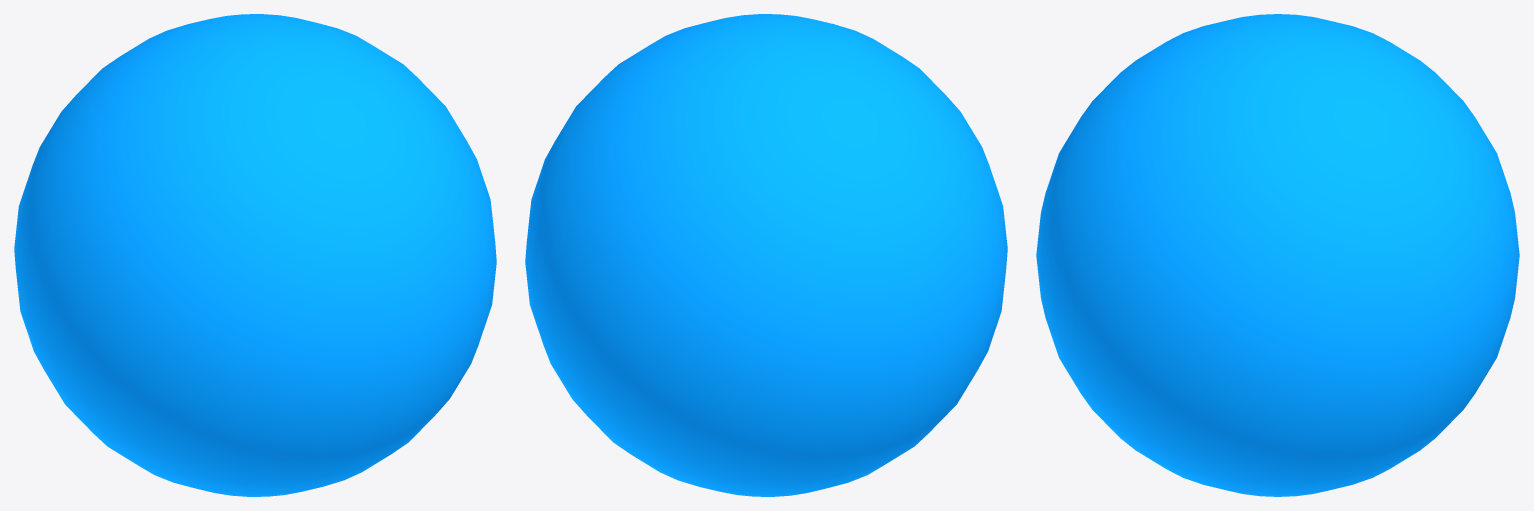
File: moutain.glb
3 renders of one model, left to right at view 1: azimuth 30°, elevation 25°; view 2: azimuth 150°, elevation 25°; view 3: azimuth 270°, elevation 25°, orthographic.
Visible parts, largest first — view 1: Object_2; view 2: Object_2; view 3: Object_2.
Part boxes in pixels (x1,y1,x2,y2): Object_2: [14, 14, 496, 496]; Object_2: [525, 14, 1007, 496]; Object_2: [1036, 14, 1519, 496].
Size of the model in its own units: 8143 by 8143 by 8143.
